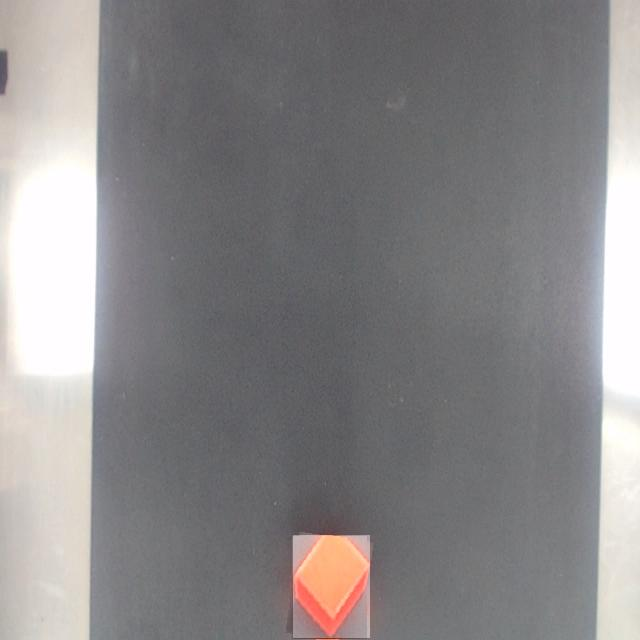Rojo: (294, 535, 370, 638)
